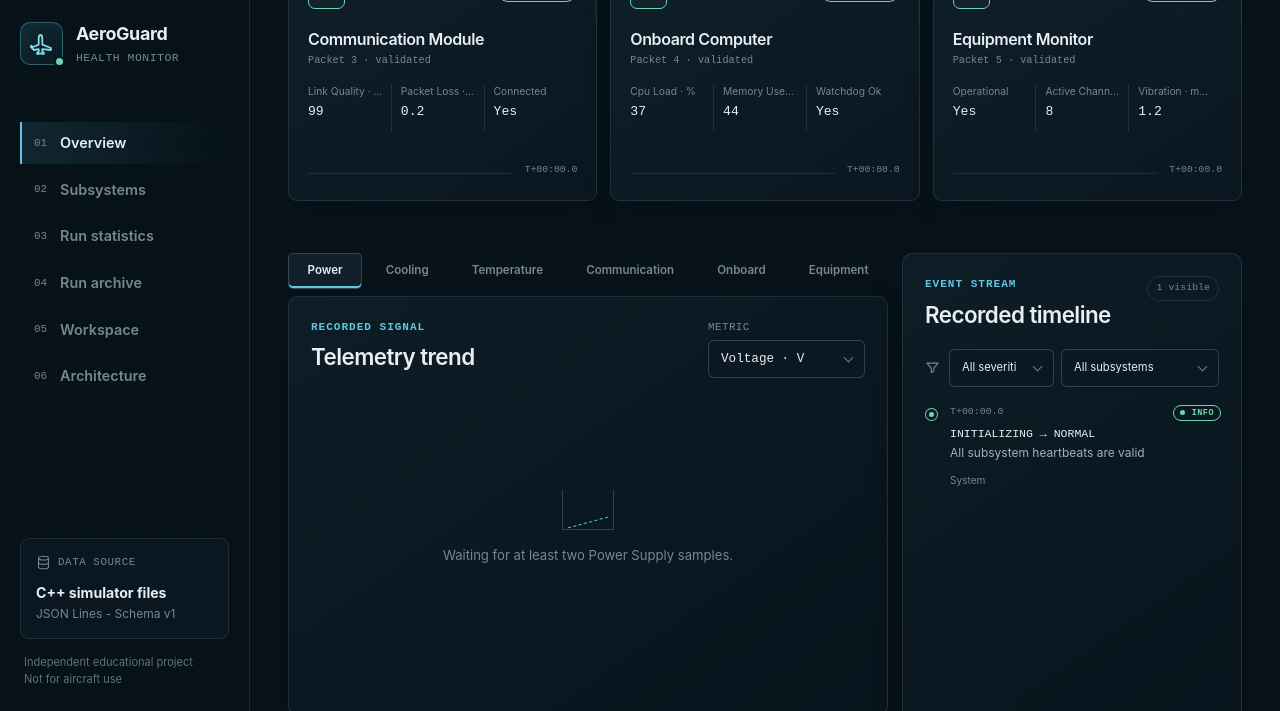
Test: AeroGuard dashboard › filters the event timeline by severity and subsystem
(page scrolled)
expect the text "INITIALIZING → NORMAL" is shown: met, box [950,427,1095,440]
Select "Critical" in the 1st dropdown named "Filter by severity" at [1002, 368], box [949,349,1054,387]
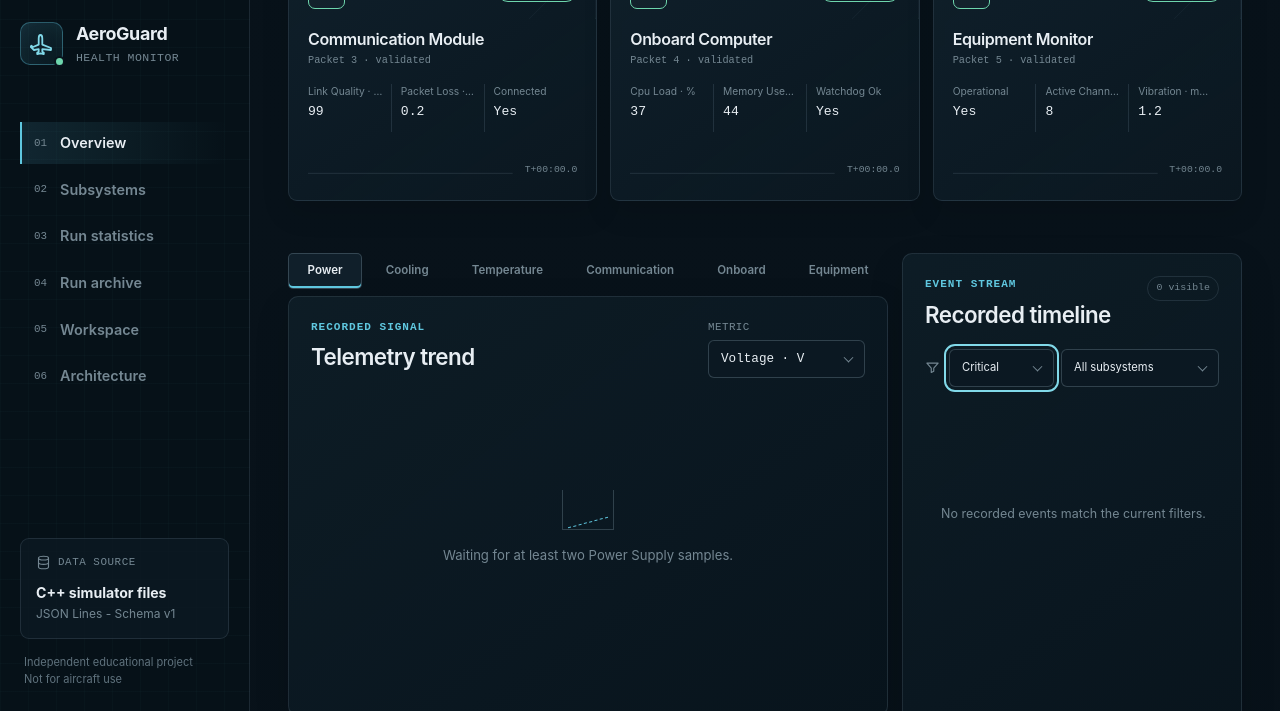
expect the text "INITIALIZING → NORMAL" is gone: met
expect the list item "No recorded events match the current filters." is shown: met, box [941,506,1206,521]
Select "All severities" in the 1st dropdown named "Filter by severity" at [1002, 368], box [949,349,1054,387]
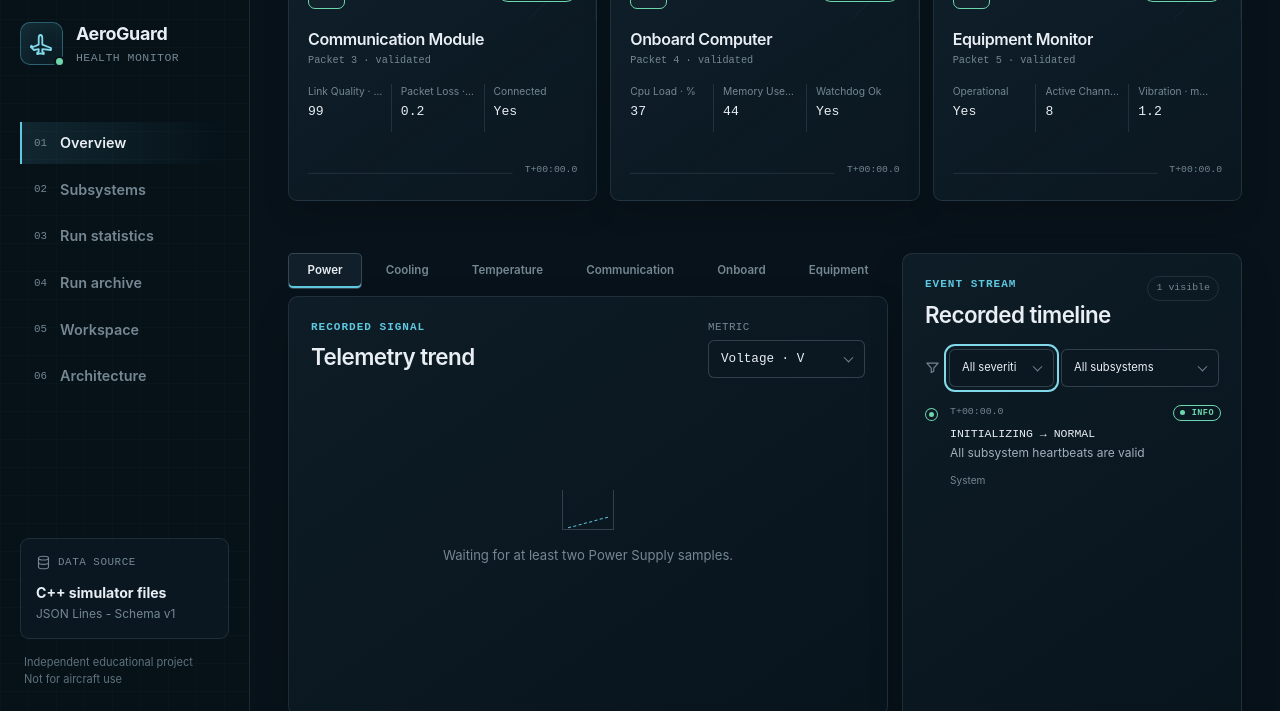
expect the text "INITIALIZING → NORMAL" is shown: met, box [950,427,1095,440]
Select "Power Supply" in the 2nd dropdown named "Filter by subsystem" at [1140, 368], box [1061,349,1219,387]
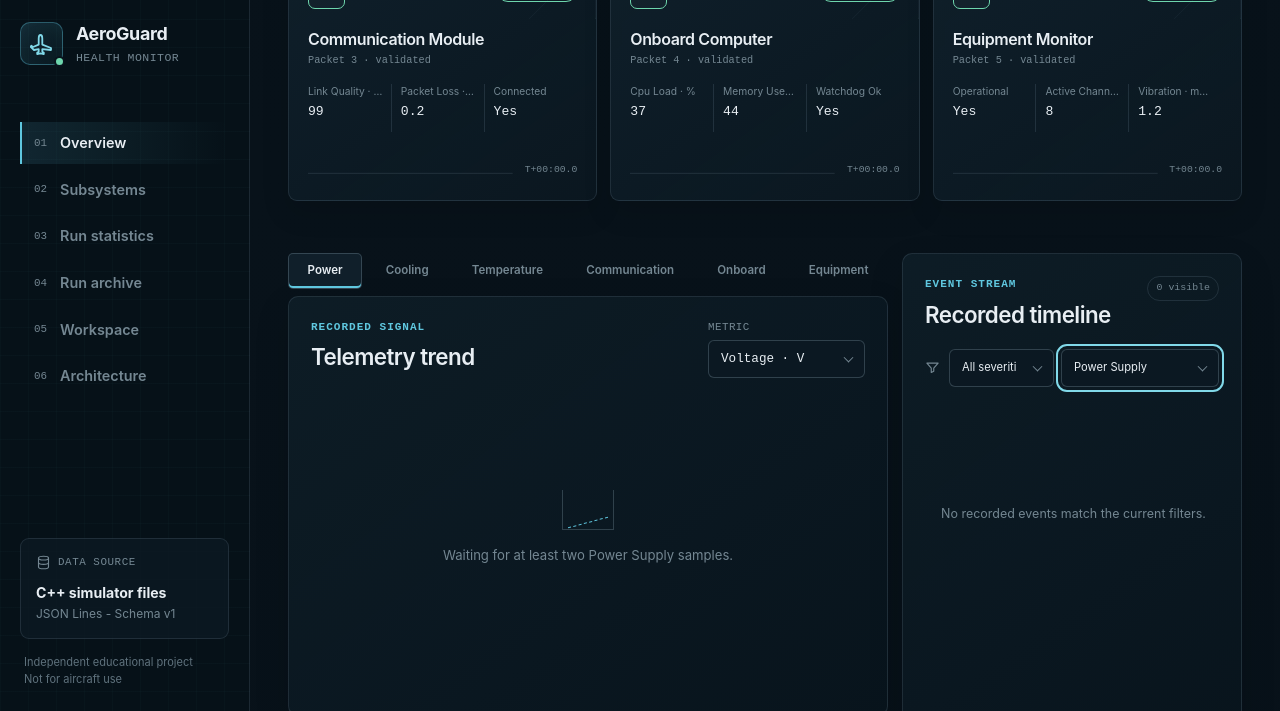
expect the text "INITIALIZING → NORMAL" is gone: met
expect the list item "No recorded events match the current filters." is shown: met, box [941,506,1206,521]
